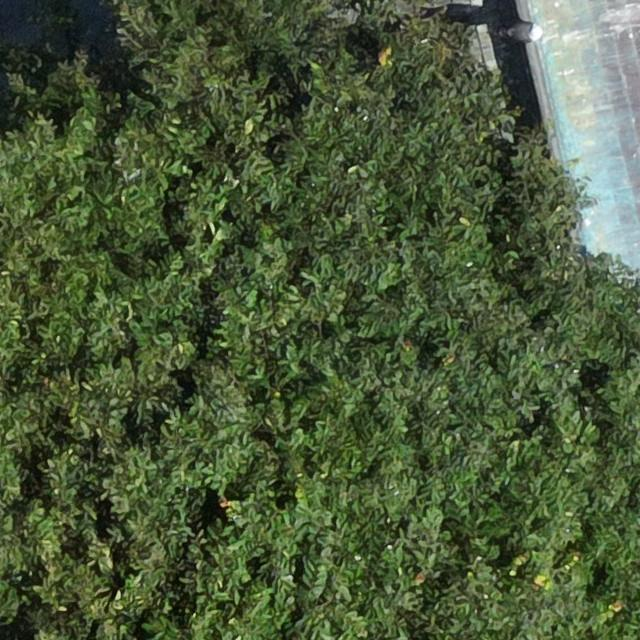umineko: (506, 22, 540, 40)
